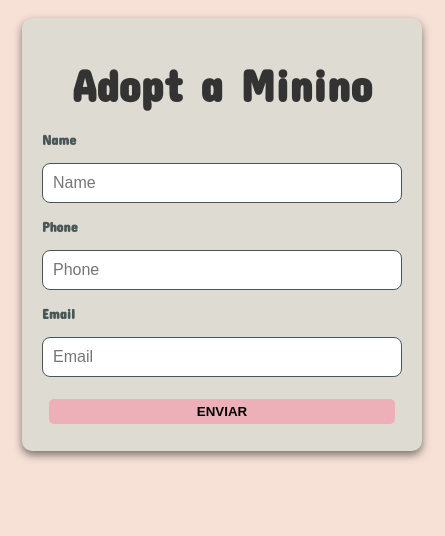
Test: Form component › muestra error con email y teléfono inválidos
The width and height of the screenshot is (445, 536).
Type "Saray" into the field labelled "Name".
click(222, 183); type("Saray")  # box x1=42 y1=163 x2=402 y2=203
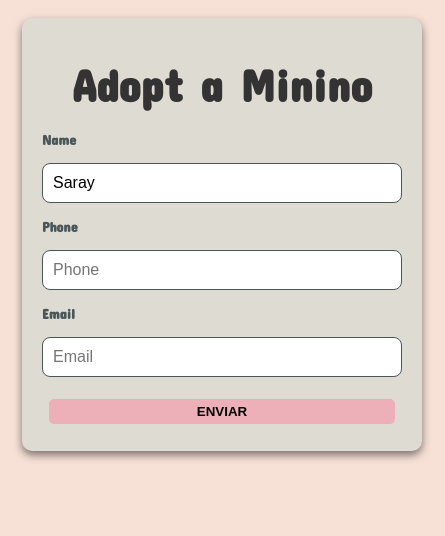
Type "abc123" into the field labelled "Phone".
click(222, 270); type("abc123")  # box x1=42 y1=250 x2=402 y2=290
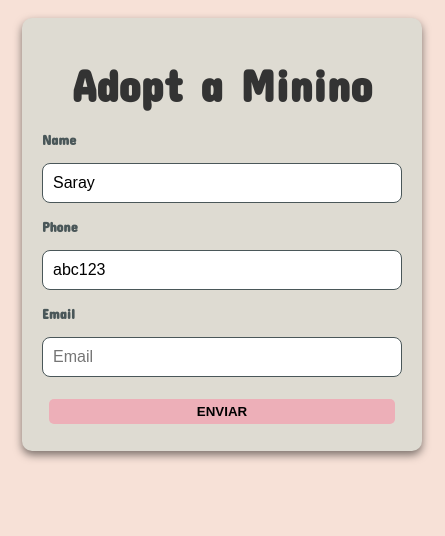
Type "correo-malo" into the field labelled "Email".
click(222, 357); type("correo-malo")  # box x1=42 y1=337 x2=402 y2=377
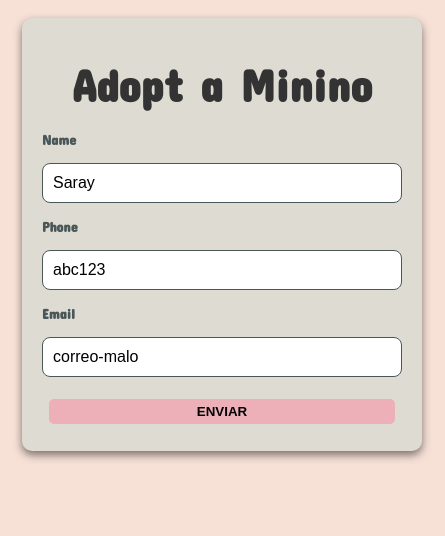
Click the button "ENVIAR".
click(222, 412)  # box x1=49 y1=399 x2=395 y2=424
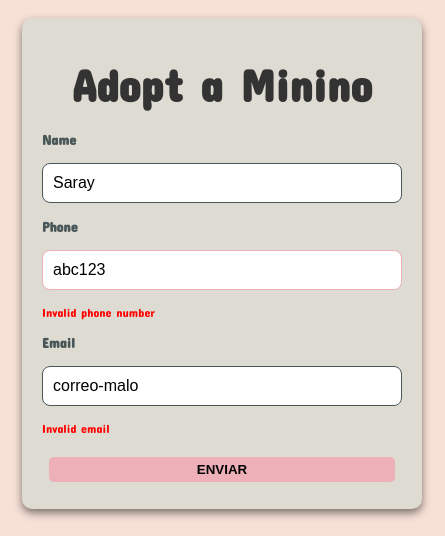
Now the text "Invalid phone number" is shown, box x1=42 y1=305 x2=155 y2=319
Now the text "Invalid email" is shown, box x1=42 y1=421 x2=110 y2=435
